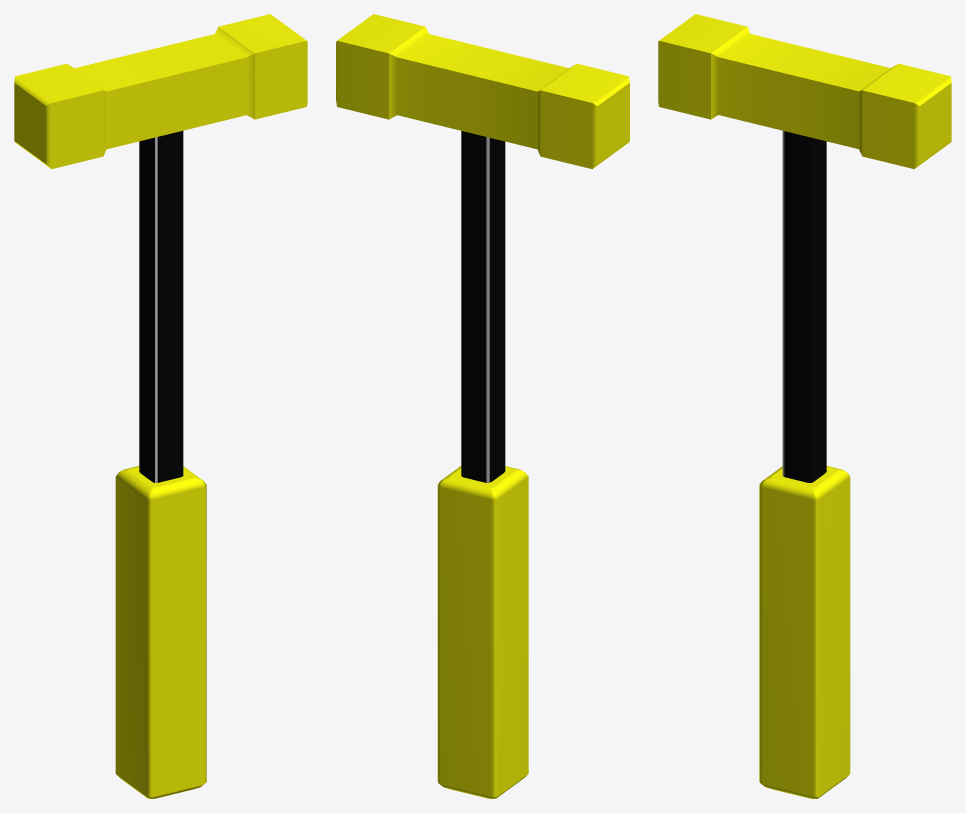
File: HammerOBJ.obj
3 renders of one model, left to right at view 1: azimuth 30°, elevation 25°; view 2: azimuth 150°, elevation 25°; view 3: azimuth 330°, elevation 25°, orthographic.
Visible parts, largest first — view 1: Hammer; view 2: Hammer; view 3: Hammer.
Part boxes in pixels (x1,y1,x2,y2): Hammer: [14, 14, 307, 798]; Hammer: [336, 14, 629, 798]; Hammer: [658, 14, 951, 798].
Size of the model in its own units: 8.8 by 23.37 by 2.13.
